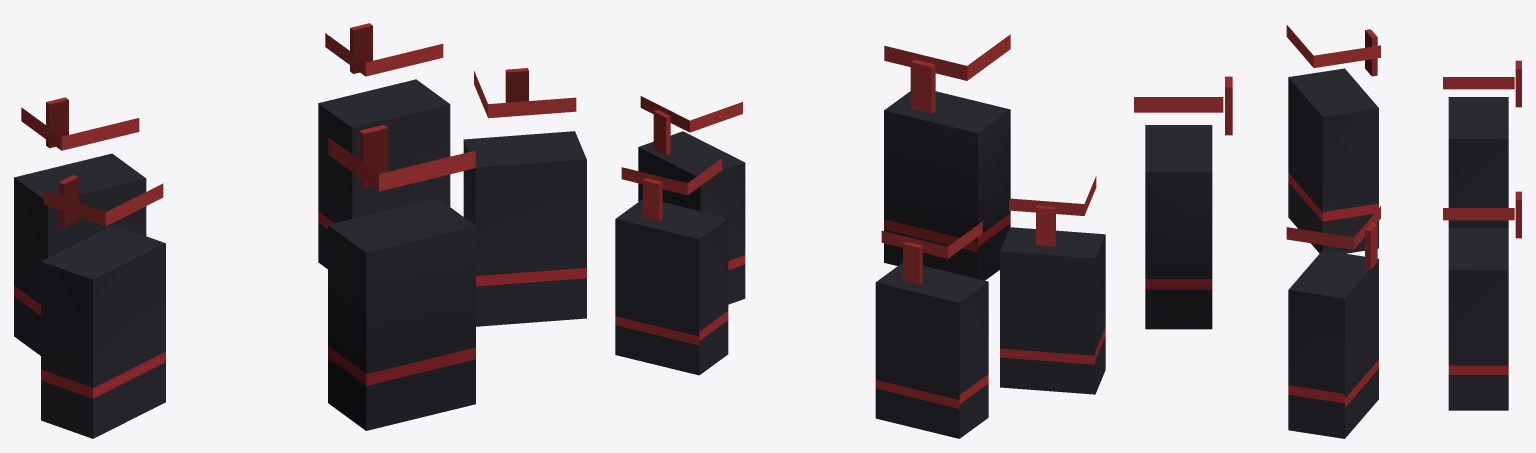
File: tub-ninjas-lod3.glb
3 renders of one model, left to right at view 1: azimuth 30°, elevation 25°; view 2: azimuth 150°, elevation 25°; view 3: azimuth 270°, elevation 25°, orthographic. The views are drawn at different scales.
Visible parts, largest first — view 1: cap_torso, att3_torso, att2_torso, att0_torso, att1_torso, cap_hat, att0_hat, att1_hat, att3_hat, att2_hat; view 2: cap_torso, att1_torso, att0_torso, att3_torso, att2_torso, cap_hat, att0_hat, att1_hat, att2_hat, att3_hat; view 3: att2_torso, att3_torso, cap_torso, att0_torso, att1_torso, cap_hat, att2_hat, att3_hat, att0_hat, att1_hat.
Boxes of the visible parts, x1,y1,x2,y2 form: cap_torso: [328, 198, 475, 430]; att3_torso: [41, 225, 165, 438]; att2_torso: [463, 131, 586, 326]; att0_torso: [318, 79, 450, 268]; att1_torso: [14, 153, 146, 355]; cap_hat: [328, 125, 475, 191]; att0_hat: [325, 23, 443, 76]; att1_hat: [21, 97, 139, 150]; att3_hat: [43, 175, 163, 227]; att2_hat: [474, 68, 576, 118]; cap_torso: [884, 91, 1010, 280]; att1_torso: [875, 262, 988, 438]; att0_torso: [615, 199, 728, 375]; att3_torso: [1000, 227, 1105, 394]; att2_torso: [638, 131, 745, 304]; cap_hat: [884, 34, 1010, 113]; att0_hat: [621, 158, 722, 221]; att1_hat: [881, 221, 982, 284]; att2_hat: [640, 96, 742, 154]; att3_hat: [1009, 176, 1096, 246]; att2_torso: [1288, 250, 1378, 438]; att3_torso: [1288, 68, 1378, 253]; cap_torso: [1145, 125, 1212, 329]; att0_torso: [1448, 228, 1508, 410]; att1_torso: [1448, 97, 1508, 227]; cap_hat: [1134, 76, 1232, 135]; att2_hat: [1286, 206, 1380, 269]; att3_hat: [1286, 25, 1380, 76]; att0_hat: [1443, 191, 1521, 238]; att1_hat: [1443, 60, 1521, 107].
Bounding box in the file's own units: 2.18 × 1.09 × 1.55.
